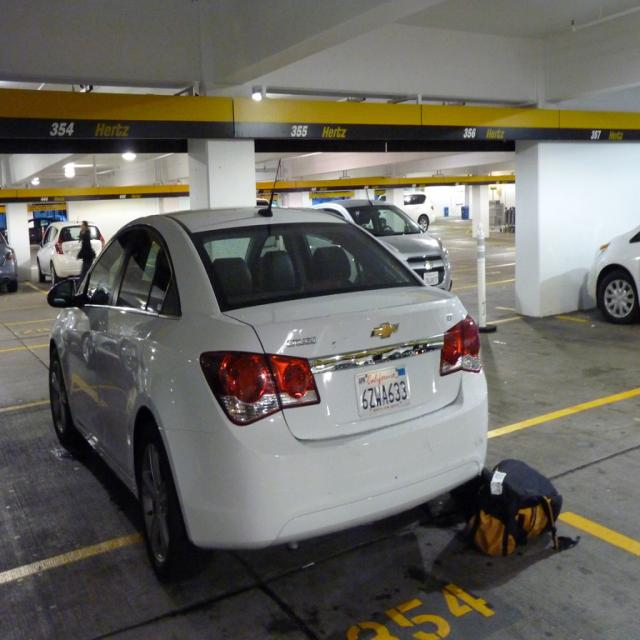car: (36, 199, 478, 568)
